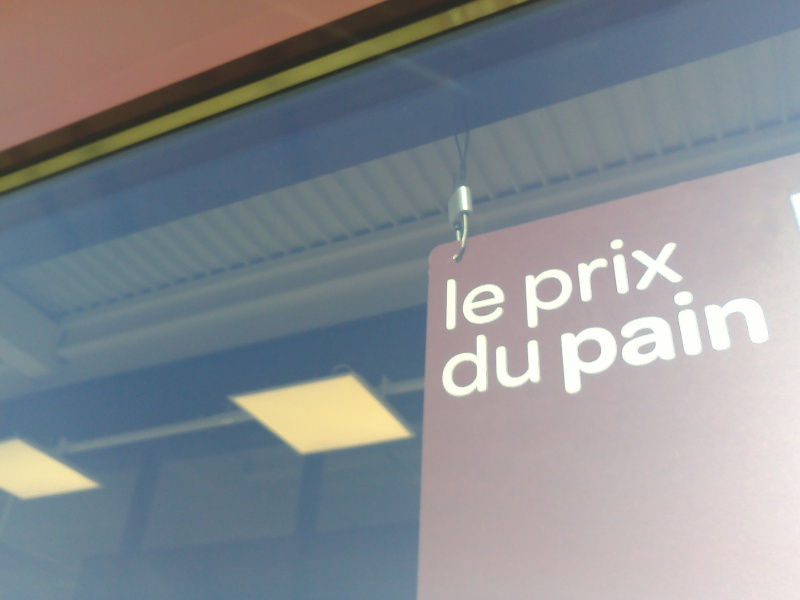text: (561, 269, 576, 399), (577, 269, 592, 399), (593, 269, 608, 399), (609, 269, 624, 399), (625, 269, 640, 399), (641, 269, 656, 399), (657, 269, 672, 399), (673, 269, 688, 399), (689, 269, 704, 399), (705, 269, 720, 399), (721, 269, 736, 399), (737, 269, 752, 399), (753, 269, 768, 399), (529, 226, 544, 332), (545, 226, 560, 332), (561, 226, 576, 332), (577, 226, 592, 332), (593, 226, 608, 332), (609, 226, 624, 332), (625, 226, 640, 332), (641, 226, 656, 332), (657, 226, 672, 332), (673, 226, 688, 332), (517, 226, 528, 332), (449, 328, 464, 402), (465, 328, 480, 402), (481, 328, 496, 402), (497, 328, 512, 402), (513, 328, 528, 402), (529, 328, 544, 402), (769, 269, 777, 399), (449, 268, 464, 332), (465, 268, 480, 332), (481, 268, 496, 332), (497, 268, 509, 332), (443, 328, 448, 402), (559, 269, 560, 399), (447, 268, 448, 332)
